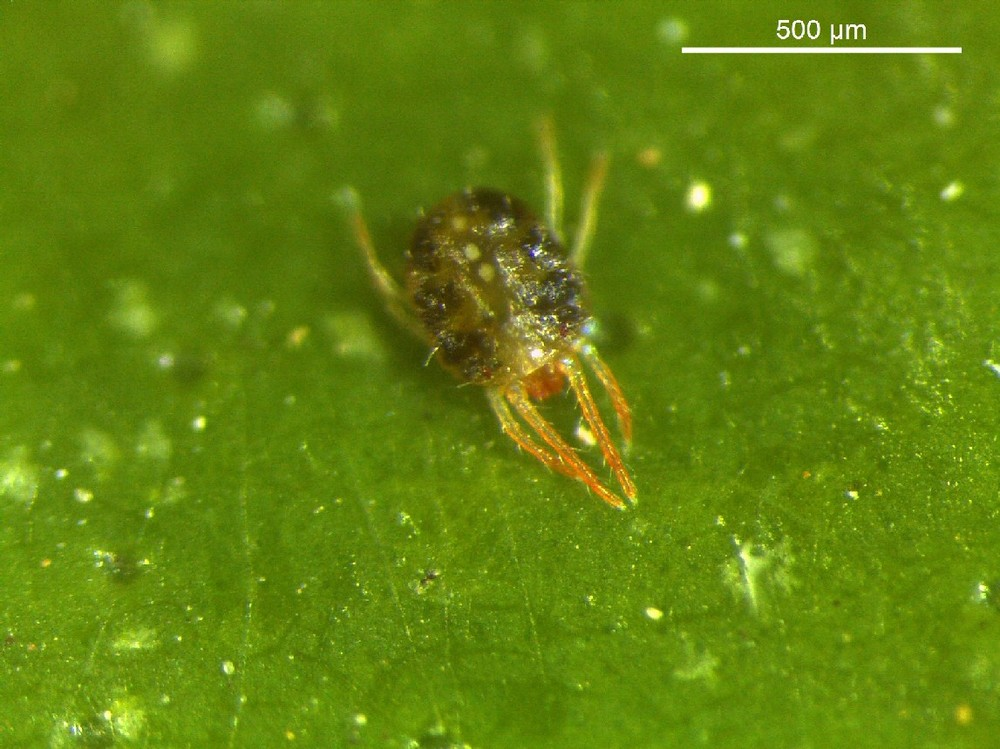Aracnido Rojo: (323, 115, 708, 536)
